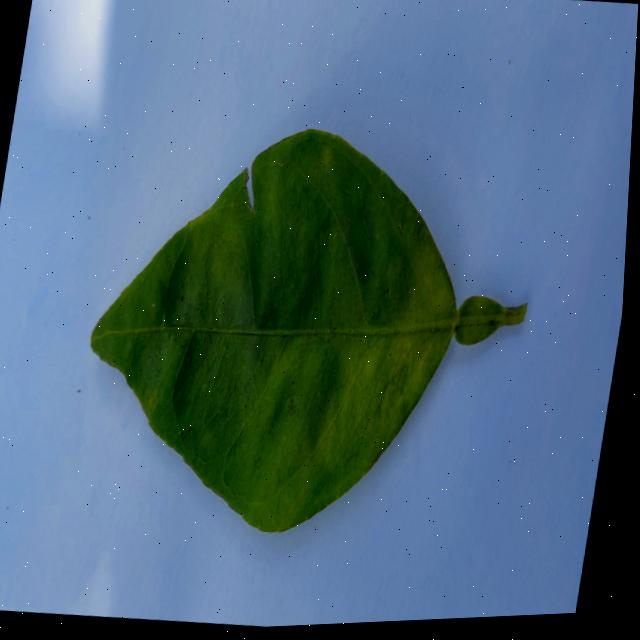greening: (91, 130, 526, 530)
